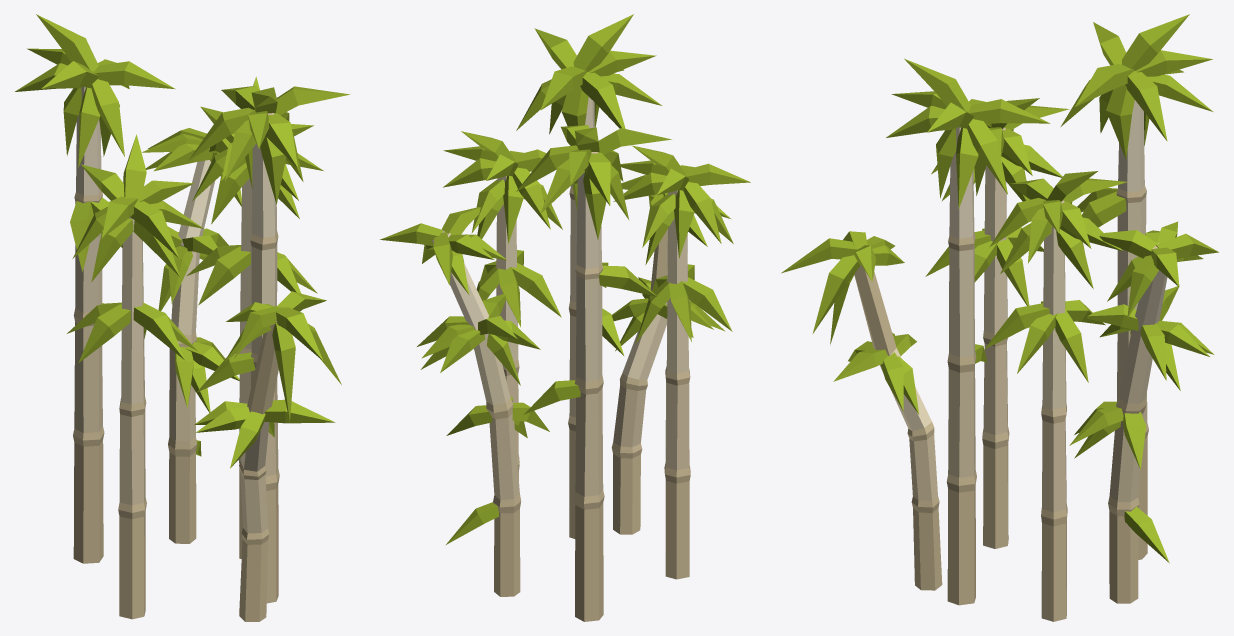
File: bamboo_leaf_3.fbx
The picture shows the model from 3 angles, left to right: view 1: azimuth 30°, elevation 25°; view 2: azimuth 150°, elevation 25°; view 3: azimuth 270°, elevation 25°; orthographic projection. The views are drawn at different scales.
Visible parts, largest first — view 1: bamboo_leaf_3; view 2: bamboo_leaf_3; view 3: bamboo_leaf_3.
Boxes of the visible parts, x1=… form: bamboo_leaf_3: x1=15, y1=14, x2=350, y2=621; bamboo_leaf_3: x1=380, y1=14, x2=750, y2=621; bamboo_leaf_3: x1=781, y1=14, x2=1218, y2=621.
Bounding box in the file's own units: 267 × 489 × 368.
